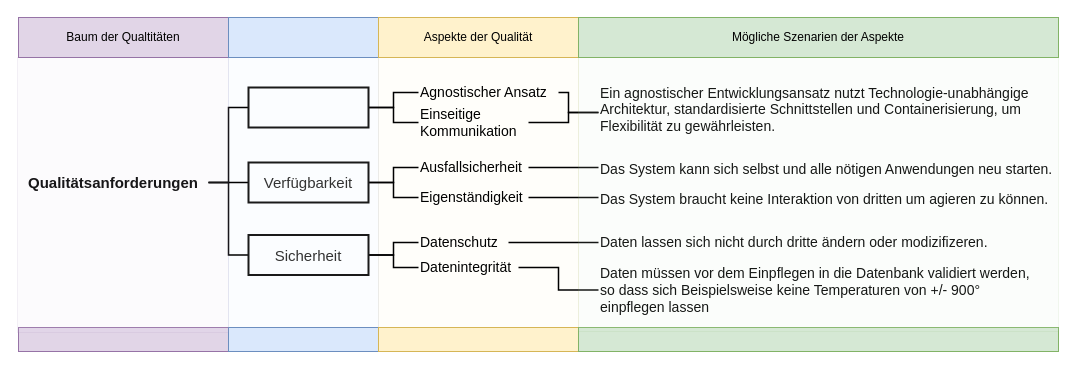
This 1086x369 diagram has some shape labels left out. Each missing label, with the centre of its shape:
Modifizierbarkeit: the point at 308,107
Spezifische Qualität: the point at 303,37
